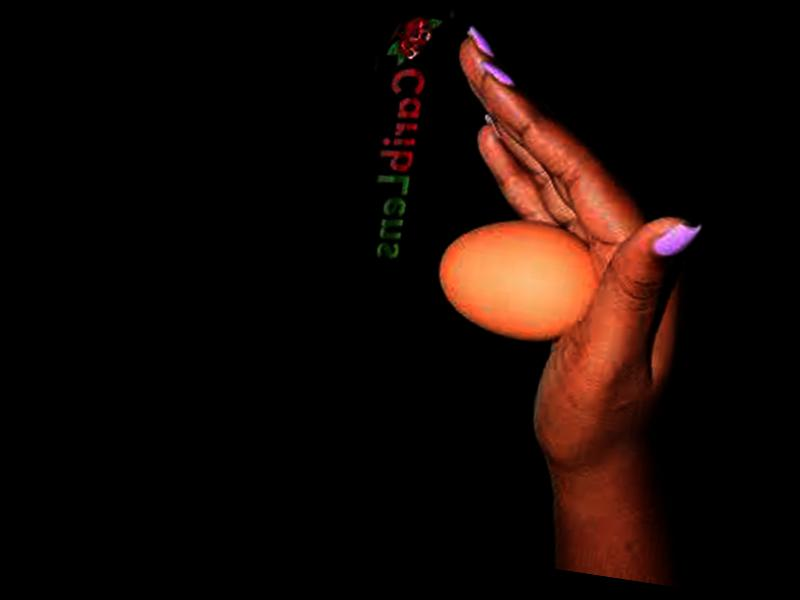Eggs: (429, 207, 603, 350)
